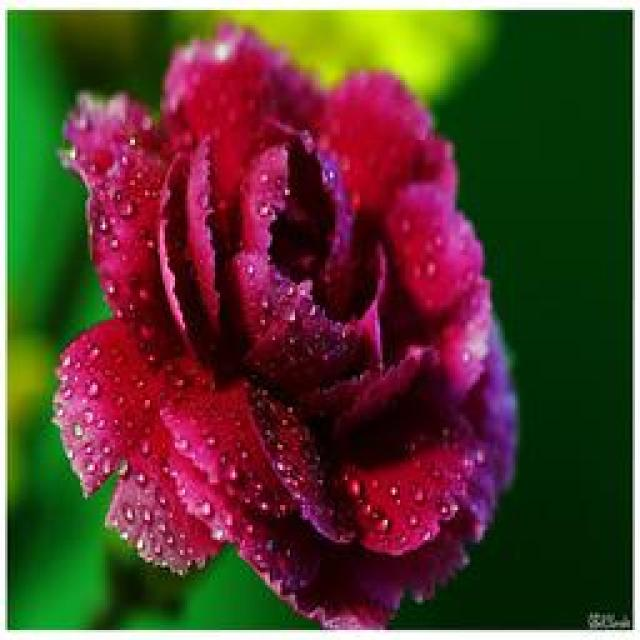carnation: (50, 17, 529, 629)
